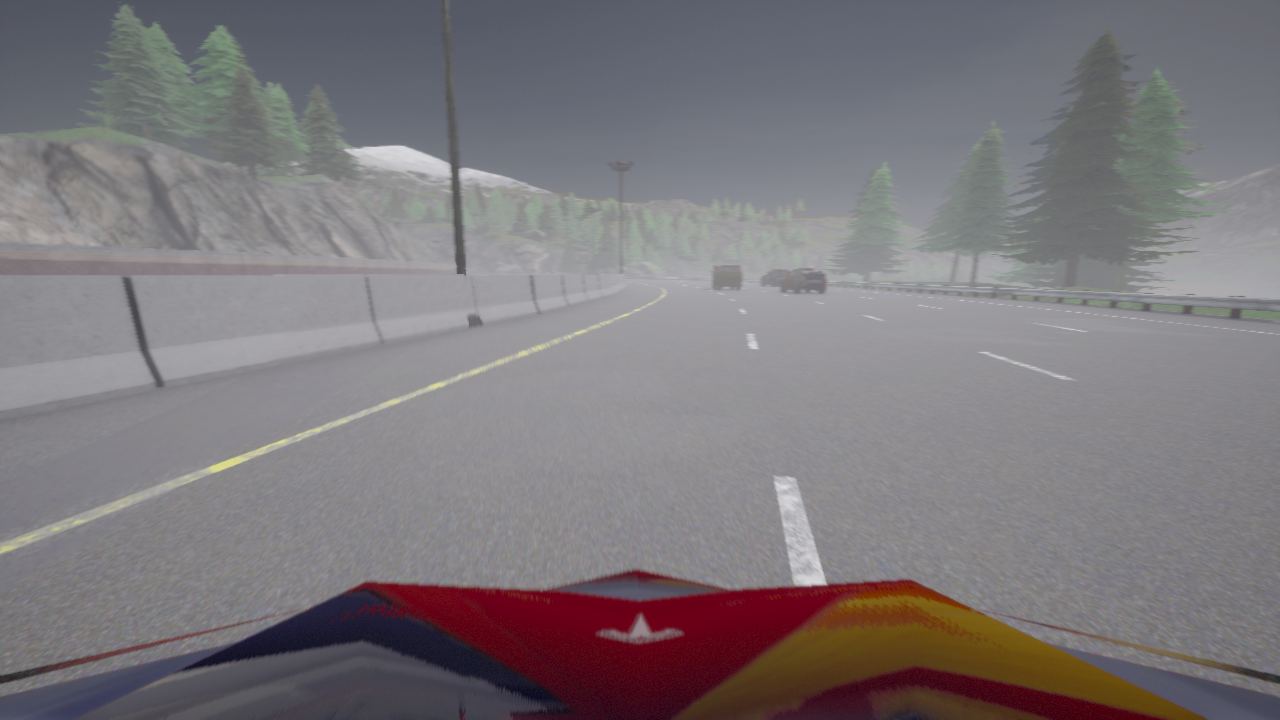cyclist: (0, 569, 1279, 719), (781, 269, 825, 292), (712, 264, 741, 289), (761, 270, 788, 285)
